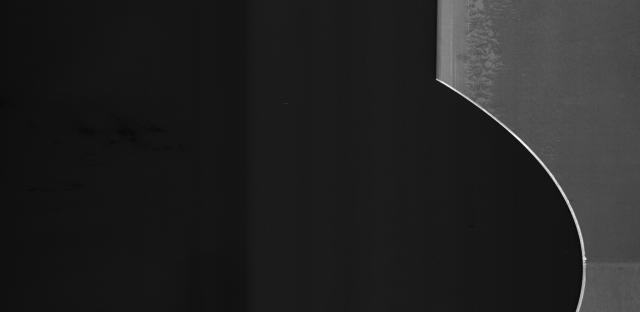crescent_gap: (420, 65, 593, 312)
welding_line: (559, 251, 640, 278)
